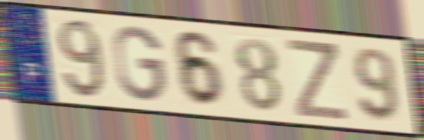6: (171, 29, 227, 110)
8: (231, 33, 284, 116)
9: (53, 16, 106, 101), (354, 44, 402, 125)
G: (111, 24, 169, 104)
Z: (284, 36, 351, 123)
